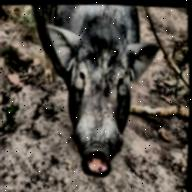boar: (21, 1, 160, 175)
